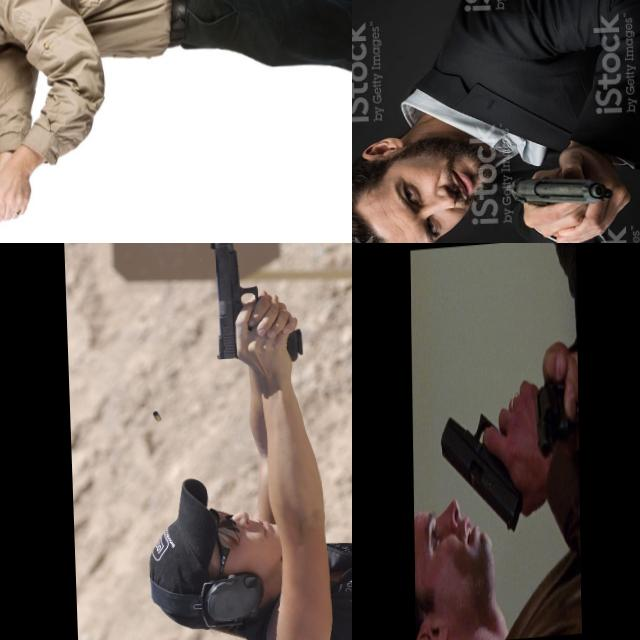handgun: (206, 243, 306, 369), (440, 404, 525, 537), (503, 168, 618, 216), (535, 368, 579, 459), (0, 180, 27, 243)
